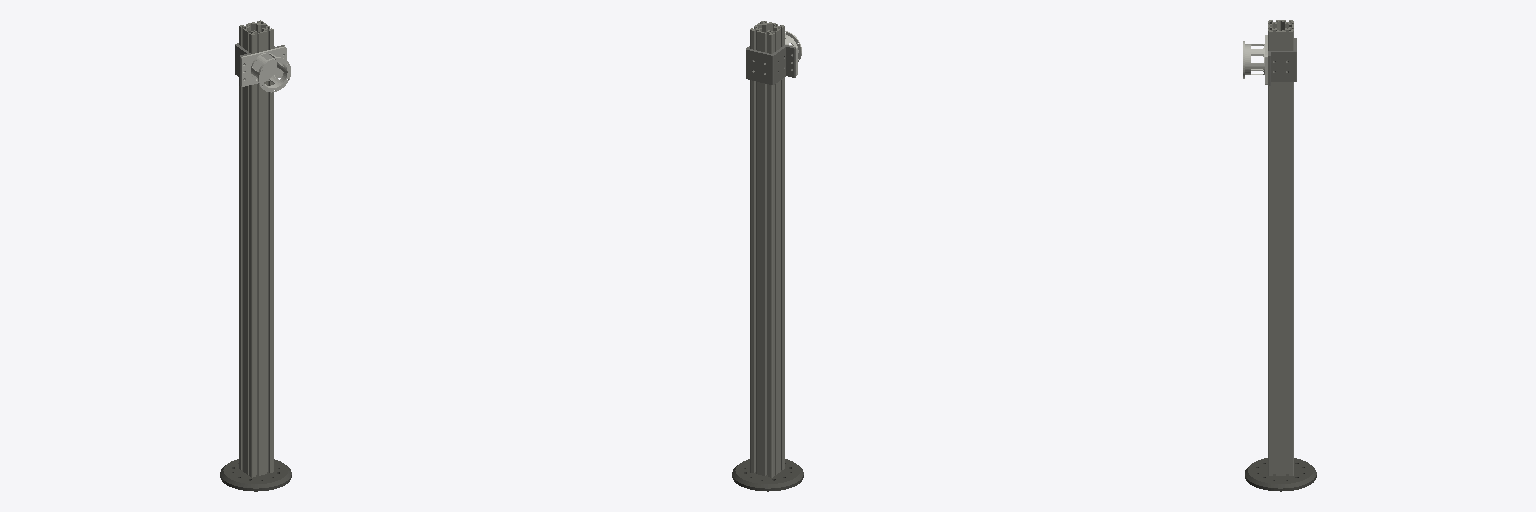
URDF robot description (new_base_only):
<?xml version="1.0" encoding="utf-8"?>
<robot name="new_base_only">
  <material name="new_base_dark_gray">
    <color rgba="0.35 0.35 0.33 1"/>
  </material>
  <material name="new_base_profile_gray">
    <color rgba="0.55 0.55 0.52 1"/>
  </material>
  <material name="new_base_flange_gray">
    <color rgba="0.75 0.75 0.72 1"/>
  </material>
  <material name="new_base_adapter_gray">
    <color rgba="0.48 0.48 0.46 1"/>
  </material>

  <link name="world"/>

  <link name="new_base_assembly_link">
    <inertial>
      <origin xyz="0.1608689 0.8 0.125" rpy="0 0 0"/>
      <mass value="25.0"/>
      <inertia ixx="2.0" ixy="0" ixz="0" iyy="1.0" iyz="0" izz="2.0"/>
    </inertial>

    <visual>
      <origin xyz="0 0 0" rpy="0 0 0"/>
      <geometry>
        <mesh filename="meshes/base_plate.STL" scale="0.001 0.001 0.001"/>
      </geometry>
      <material name="new_base_dark_gray"/>
    </visual>
    <collision>
      <origin xyz="0 0 0" rpy="0 0 0"/>
      <geometry>
        <mesh filename="meshes/base_plate.STL" scale="0.001 0.001 0.001"/>
      </geometry>
    </collision>

    <visual>
      <origin xyz="0 0 0" rpy="0 0 0"/>
      <geometry>
        <mesh filename="meshes/profile_8080.STL" scale="0.001 0.001 0.001"/>
      </geometry>
      <material name="new_base_profile_gray"/>
    </visual>
    <collision>
      <origin xyz="0 0 0" rpy="0 0 0"/>
      <geometry>
        <mesh filename="meshes/profile_8080.STL" scale="0.001 0.001 0.001"/>
      </geometry>
    </collision>

    <visual>
      <origin xyz="0 0 0" rpy="0 0 0"/>
      <geometry>
        <mesh filename="meshes/arm_flange.STL" scale="0.001 0.001 0.001"/>
      </geometry>
      <material name="new_base_flange_gray"/>
    </visual>
    <collision>
      <origin xyz="0 0 0" rpy="0 0 0"/>
      <geometry>
        <mesh filename="meshes/arm_flange.STL" scale="0.001 0.001 0.001"/>
      </geometry>
    </collision>

    <visual>
      <origin xyz="0 0 0" rpy="0 0 0"/>
      <geometry>
        <mesh filename="meshes/adapter_seat.STL" scale="0.001 0.001 0.001"/>
      </geometry>
      <material name="new_base_adapter_gray"/>
    </visual>
    <collision>
      <origin xyz="0 0 0" rpy="0 0 0"/>
      <geometry>
        <mesh filename="meshes/adapter_seat.STL" scale="0.001 0.001 0.001"/>
      </geometry>
    </collision>
  </link>

  <!-- The SolidWorks STL assembly uses millimetres and CAD-Y as vertical.
       This fixed joint rotates CAD-Y onto URDF/MuJoCo world-Z. -->
  <joint name="world_to_new_base_assembly" type="fixed">
    <parent link="world"/>
    <child link="new_base_assembly_link"/>
    <origin xyz="0 0 0" rpy="1.5708 0 0"/>
  </joint>
</robot>

--- Render facts (derived) ---
3 views of the same robot in one strip: view 1: azimuth 30°, elevation 25°; view 2: azimuth 150°, elevation 25°; view 3: azimuth 270°, elevation 25° (orthographic).
Model new_base_only with 2 links and 1 joints (1 fixed), rooted at world, posed all joints at 0.
Visible links, largest first — view 1: new_base_assembly_link; view 2: new_base_assembly_link; view 3: new_base_assembly_link.
Boxes of the visible links, box(x1,y1,x2,y2) form: new_base_assembly_link: box(220, 20, 291, 491); new_base_assembly_link: box(732, 21, 803, 491); new_base_assembly_link: box(1243, 20, 1316, 491).
Bounding box of the posed robot: 0.2199 × 0.2241 × 1.52 m (x, y, z).
4 mesh visuals loaded from 4 distinct referenced files (4 binary STL).
